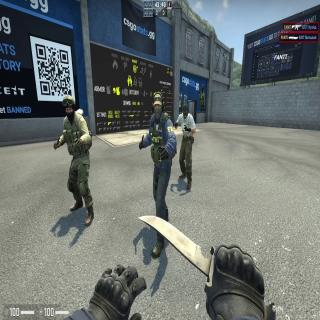CT-Body: (63, 96, 91, 226), (149, 94, 169, 224)
CT-Head: (63, 95, 75, 123), (152, 94, 163, 120)
T-Body: (180, 104, 194, 190)
T-Head: (182, 103, 188, 117)
